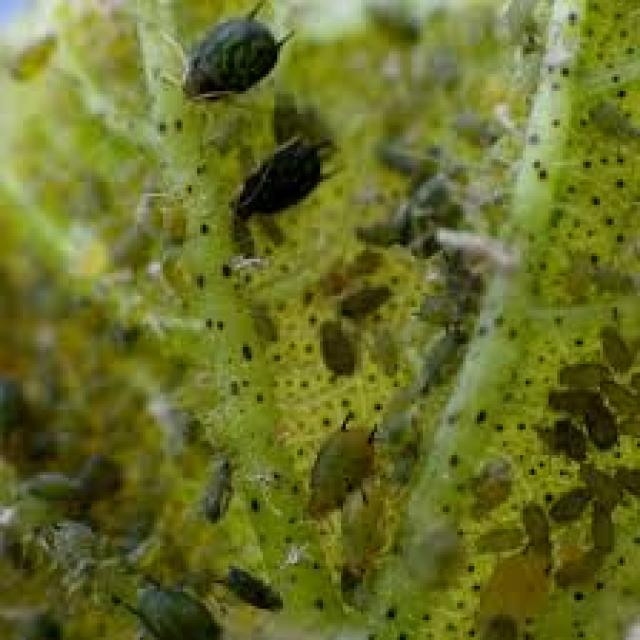Aphid: (166, 0, 299, 106)
